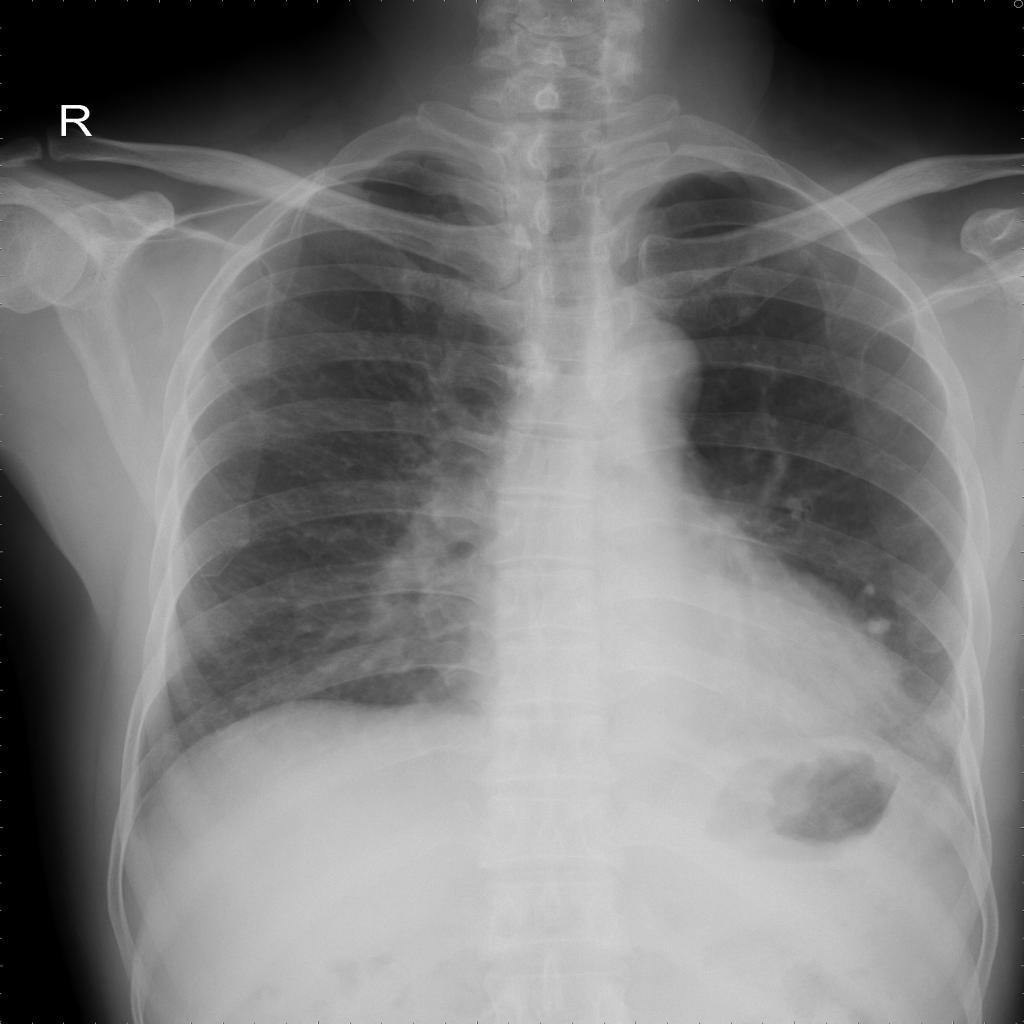Nodule: (864, 618, 892, 639)
